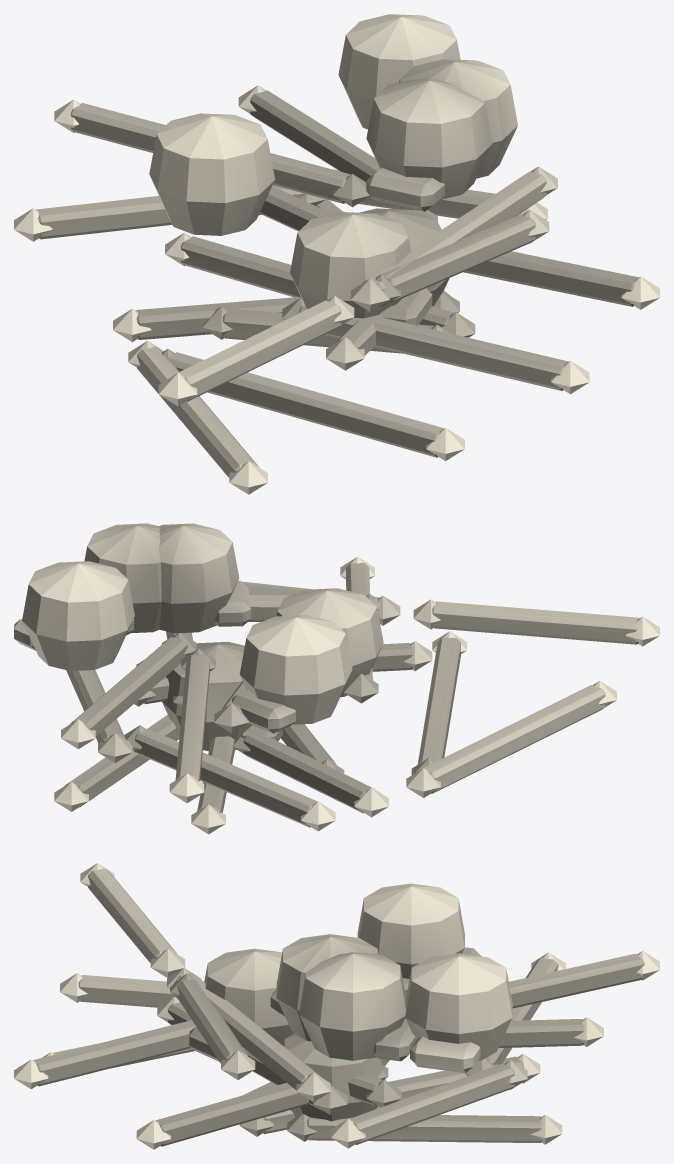
The model's file is dngp_bonepile.glb.
The picture shows the model from 3 angles, top to bottom: view 1: azimuth 30°, elevation 25°; view 2: azimuth 150°, elevation 25°; view 3: azimuth 270°, elevation 25°; orthographic projection. The views are drawn at different scales.
Visible parts, largest first — view 1: bone; view 2: bone; view 3: bone.
Part boxes in pixels (x1,y1,x2,y2): bone: (14, 14, 659, 494); bone: (14, 523, 659, 834); bone: (14, 863, 659, 1149).
Size of the model in its own units: 0.8263 by 0.343 by 0.974.
